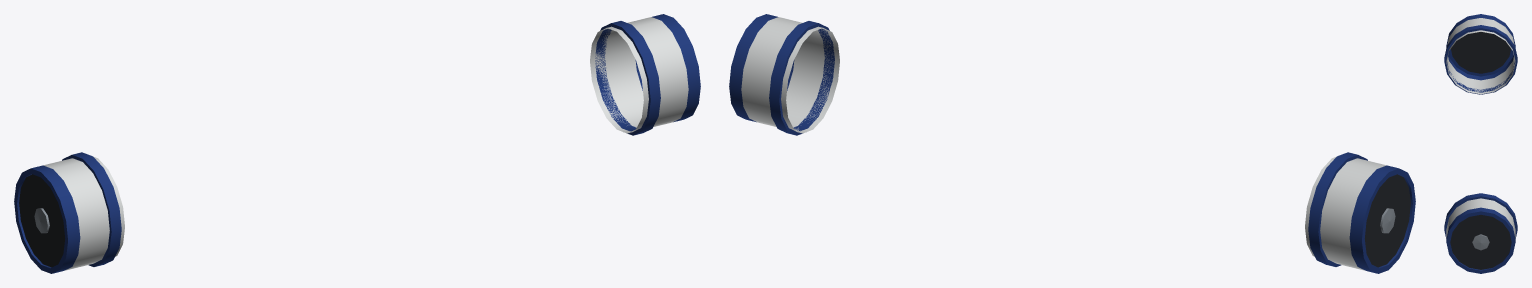
Rendered from l200_fan.obj.
3 views of the same model, side by side, from view 1: azimuth 30°, elevation 25°; view 2: azimuth 150°, elevation 25°; view 3: azimuth 270°, elevation 25° (orthographic). The views are drawn at different scales.
Visible parts, largest first — view 1: l200_fan; view 2: l200_fan; view 3: l200_fan.
Boxes of the visible parts, x1=… form: l200_fan: x1=14, y1=14, x2=700, y2=273; l200_fan: x1=729, y1=14, x2=1415, y2=273; l200_fan: x1=1444, y1=14, x2=1517, y2=273.
Size of the model in its own units: 6.24 by 0.98 by 0.98.
